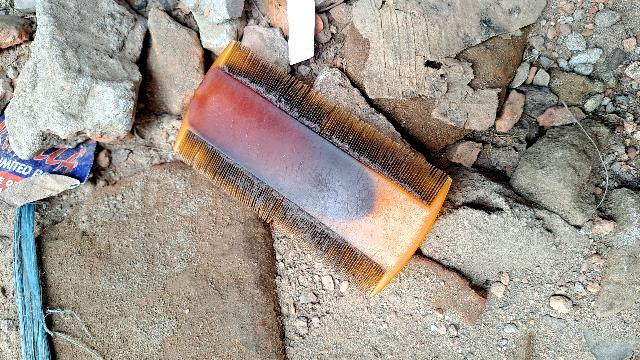hardplastic: (155, 19, 463, 297)
